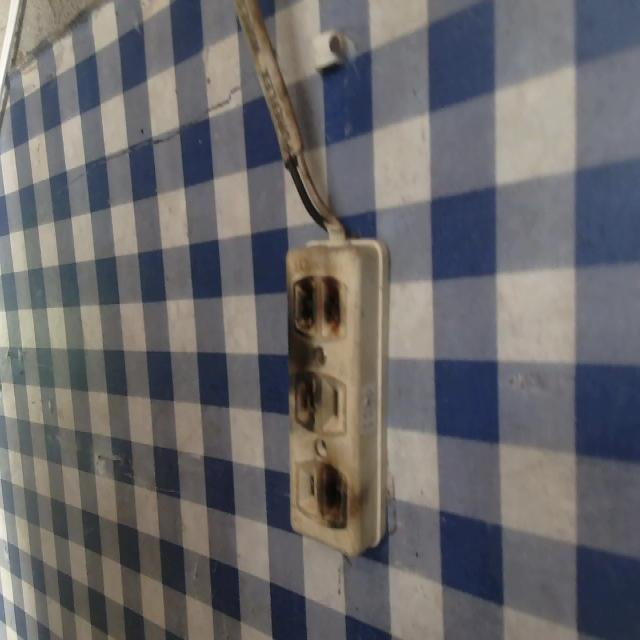-: (281, 267, 354, 349), (316, 452, 355, 531), (286, 367, 328, 437)
